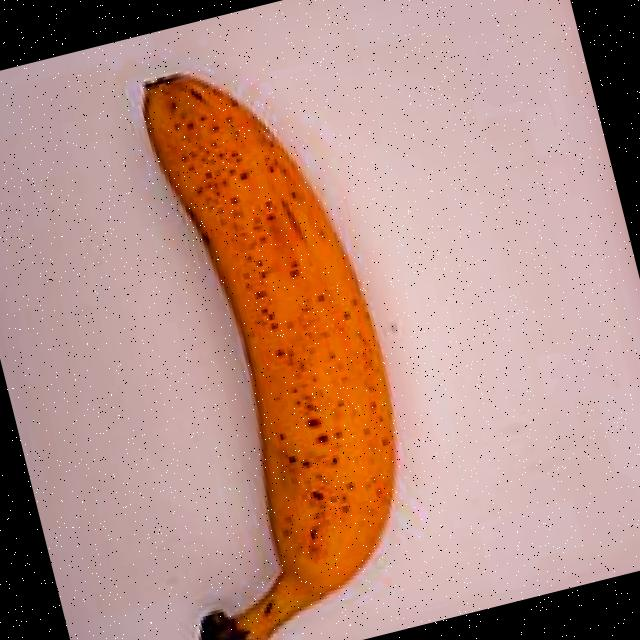Overripe: (0, 8, 477, 640)
